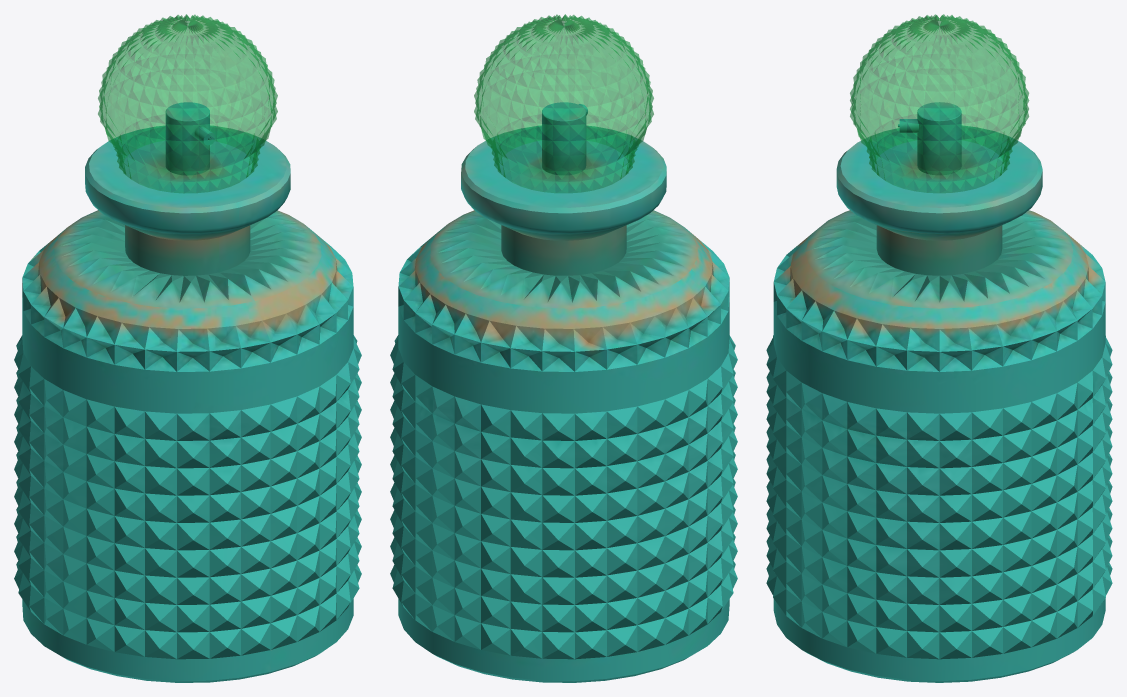
File: perfume.glb
The picture shows the model from 3 angles, left to right: view 1: azimuth 30°, elevation 25°; view 2: azimuth 150°, elevation 25°; view 3: azimuth 270°, elevation 25°; orthographic projection.
Parts seen in each view (by area): view 1: Cylinder, Sphere; view 2: Cylinder, Sphere; view 3: Cylinder, Sphere.
Part boxes in pixels (x1,y1,x2,y2): Cylinder: (14, 102, 361, 682); Sphere: (98, 14, 277, 193); Cylinder: (390, 102, 737, 682); Sphere: (474, 14, 653, 192); Cylinder: (766, 102, 1112, 682); Sphere: (850, 14, 1029, 192).
Size of the model in its own units: 0.3873 by 0.7317 by 0.3873.
2 materials, 2 textured.
